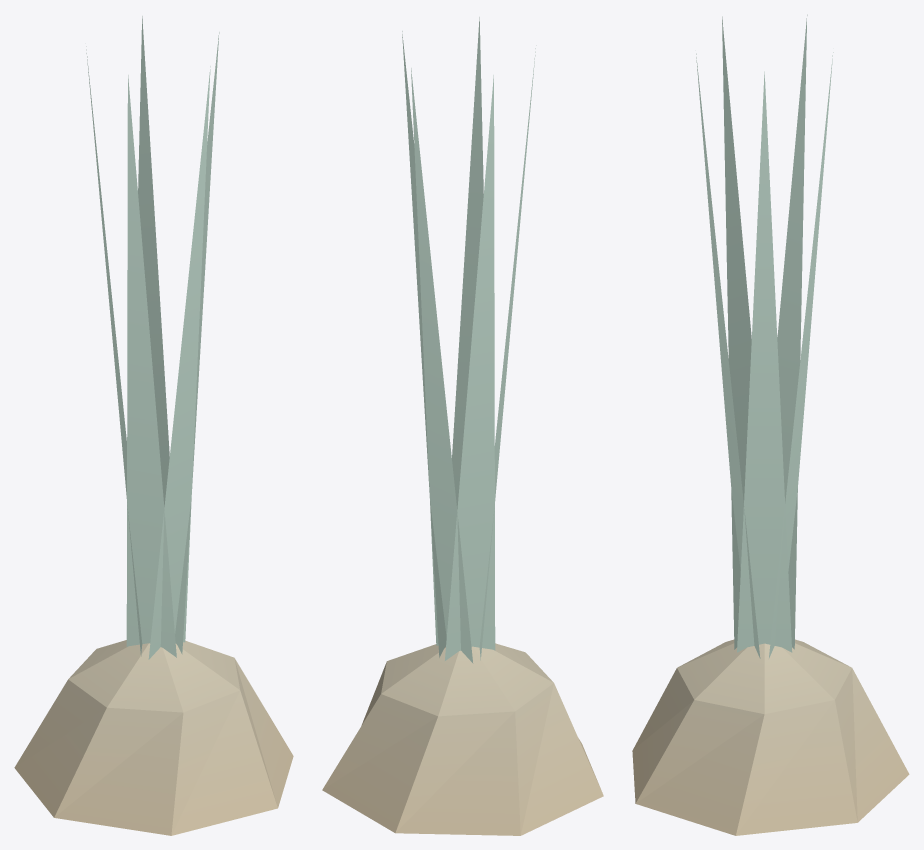
File: onion.glb
The picture shows the model from 3 angles, left to right: view 1: azimuth 30°, elevation 25°; view 2: azimuth 150°, elevation 25°; view 3: azimuth 270°, elevation 25°; orthographic projection.
Visible parts, largest first — view 1: onion_mesh; view 2: onion_mesh; view 3: onion_mesh.
Boxes of the visible parts, x1,y1,x2,y2 form: onion_mesh: [14, 16, 293, 835]; onion_mesh: [322, 17, 603, 835]; onion_mesh: [632, 14, 909, 835].
Bounding box in the file's own units: 0.117 × 0.34 × 0.1147.
